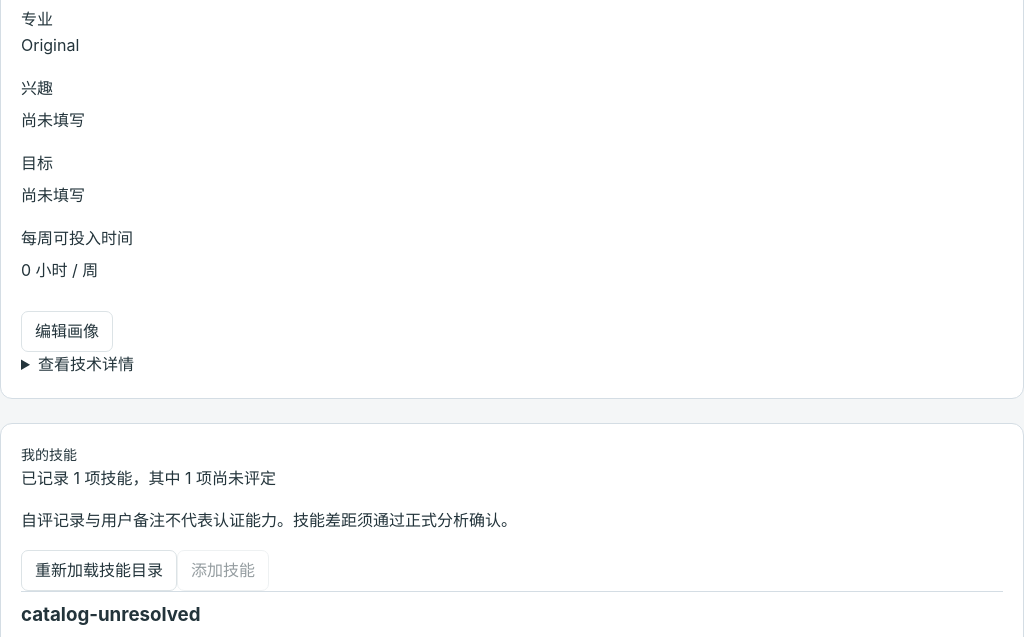
Scenario: version conflict preserves draft and never auto-overwrites
This screenshot has width=1024, height=637.
(page scrolled)
Click the button "编辑画像". click: (67, 332)
box: [21,311,113,352]
(page scrolled)
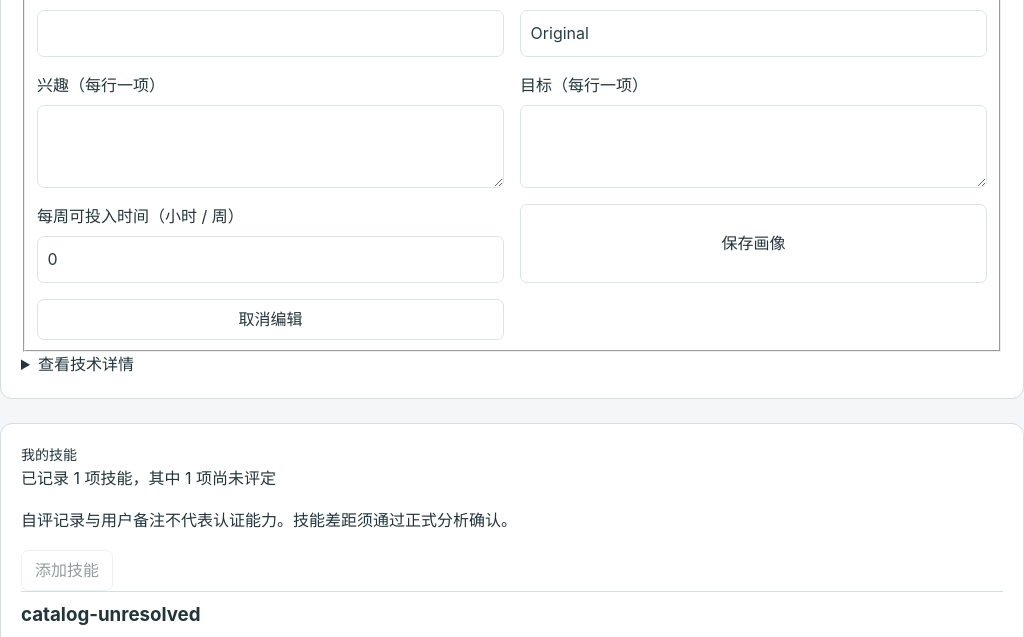
Replace the text in the field labelled "专业" with "Unsaved". click: (754, 34)
box: [520,10,987,57]
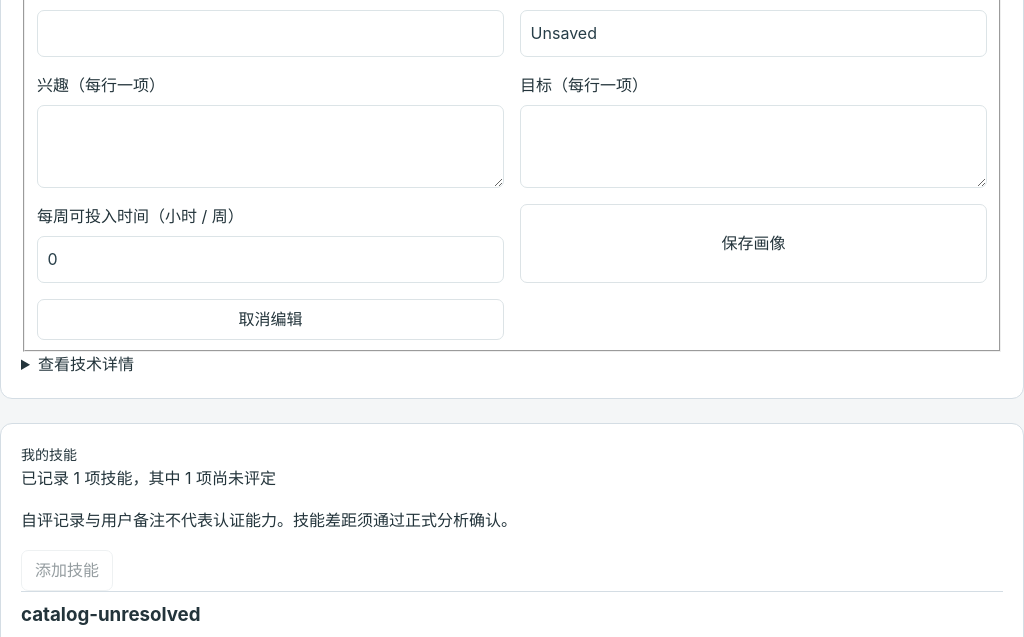
Click the button "保存画像". click: (754, 243)
box: [520,204,987,283]
(page scrolled)
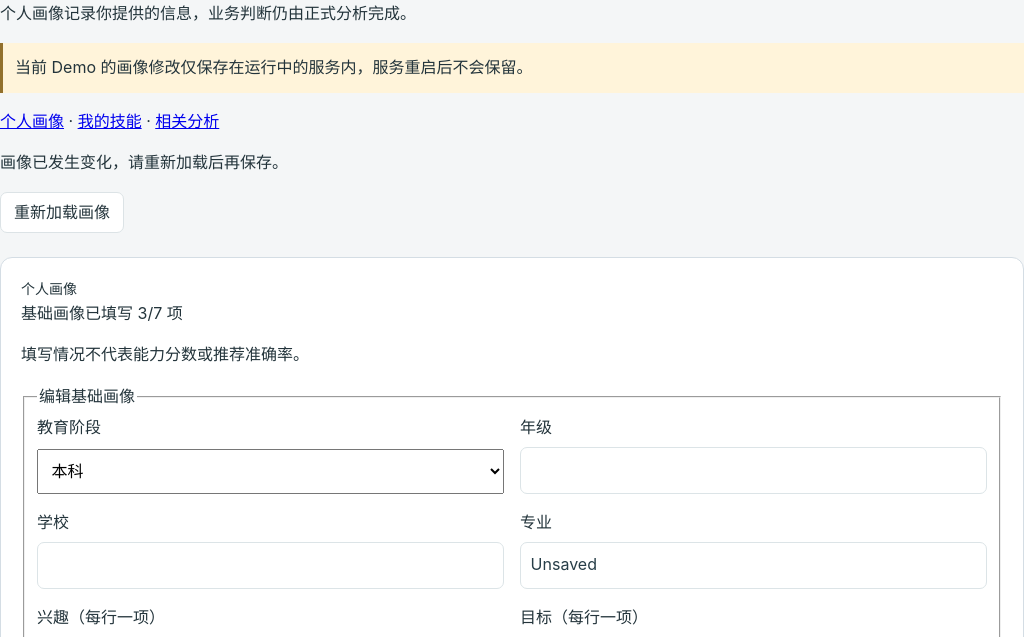
Check: the message shows "画像已发生变化，请重新加载后再保存", box [0,152,288,172]
